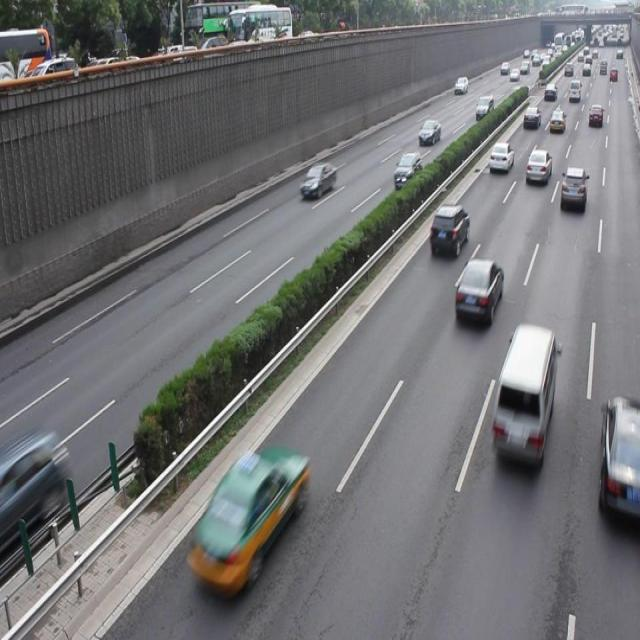car: (185, 445, 308, 602), (1, 427, 65, 546), (596, 393, 640, 522), (452, 257, 502, 325), (428, 202, 469, 255), (299, 162, 337, 200), (558, 166, 586, 212), (392, 150, 421, 188), (524, 148, 551, 185), (488, 140, 514, 174)
truck: (488, 320, 557, 468)
